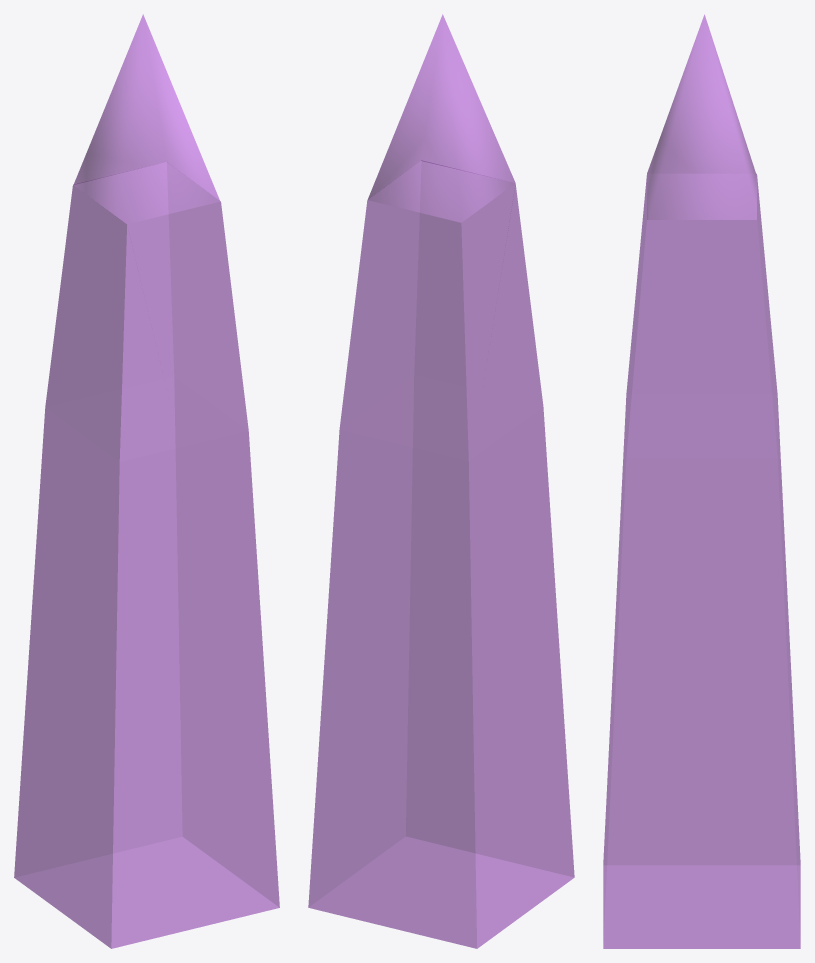
Rendered from Crystal.fbx.
3 renders of one model, left to right at view 1: azimuth 30°, elevation 25°; view 2: azimuth 150°, elevation 25°; view 3: azimuth 270°, elevation 25°, orthographic.
Parts seen in each view (by area): view 1: pCube1; view 2: pCube1; view 3: pCube1.
Boxes of the visible parts, x1,y1,x2,y2 form: pCube1: [14, 14, 279, 948]; pCube1: [308, 14, 574, 948]; pCube1: [603, 14, 800, 948].
Bounding box in the file's own units: 1 × 4.98 × 1.
